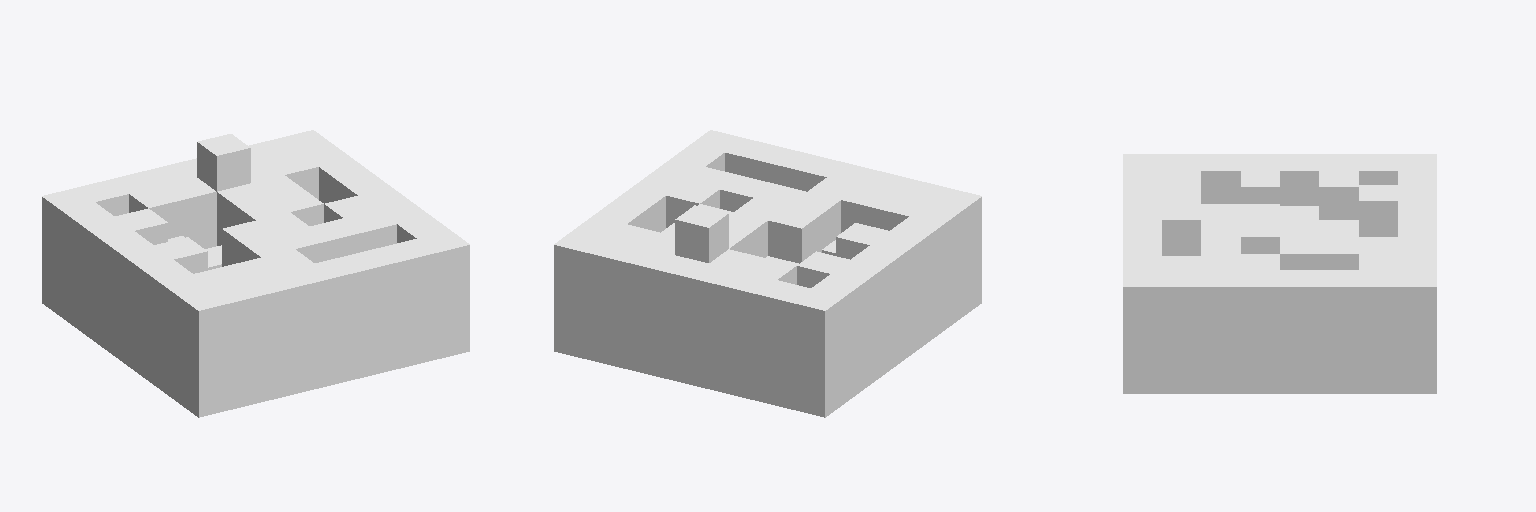
File: Lava15.obj
3 renders of one model, left to right at view 1: azimuth 30°, elevation 25°; view 2: azimuth 150°, elevation 25°; view 3: azimuth 270°, elevation 25°, orthographic.
Visible parts, largest first — view 1: object 1; view 2: object 1; view 3: object 1.
Boxes of the visible parts, x1,y1,x2,y2 form: object 1: [42, 130, 469, 417]; object 1: [554, 130, 981, 417]; object 1: [1123, 154, 1436, 393].
Bounding box in the file's own units: 0.8 × 0.4 × 0.8.